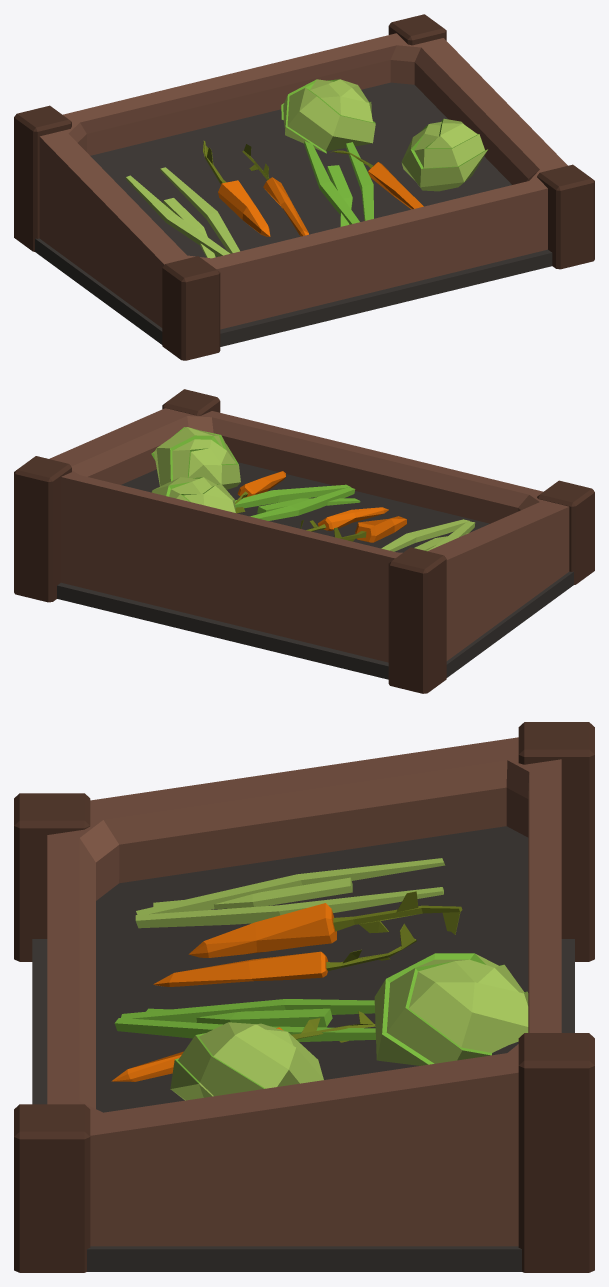
File: Vegetables Box Asia.fbx
3 views of the same model, one above another, from view 1: azimuth 30°, elevation 25°; view 2: azimuth 150°, elevation 25°; view 3: azimuth 270°, elevation 25° (orthographic). The views are drawn at different scales.
Parts seen in each view (by area): view 1: Vegetables Box; view 2: Vegetables Box; view 3: Vegetables Box.
Part boxes in pixels (x1,y1,x2,y2): Vegetables Box: [14, 14, 594, 360]; Vegetables Box: [14, 389, 594, 693]; Vegetables Box: [14, 722, 594, 1272].
Size of the model in its own units: 0.8775 by 0.2501 by 0.6276.
